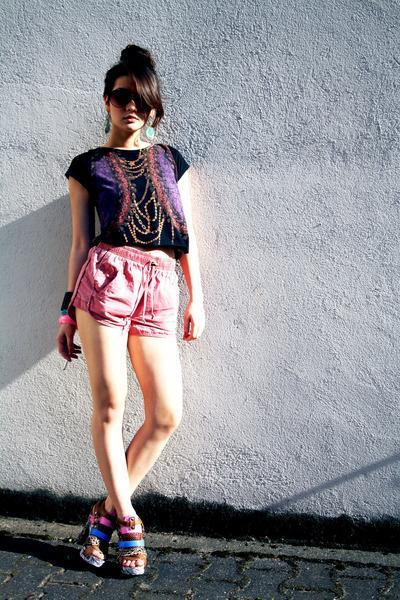shirt: (65, 144, 189, 260)
shoe: (70, 496, 146, 574)
shorts: (61, 237, 183, 347)
